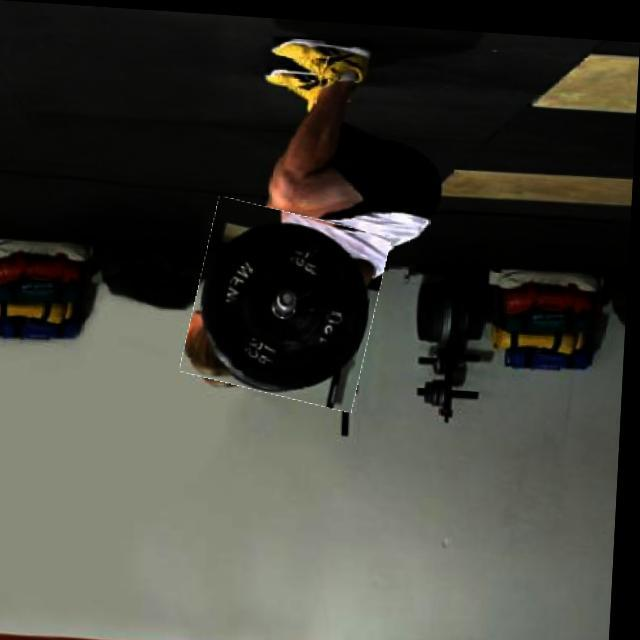barbell: (190, 199, 389, 403)
